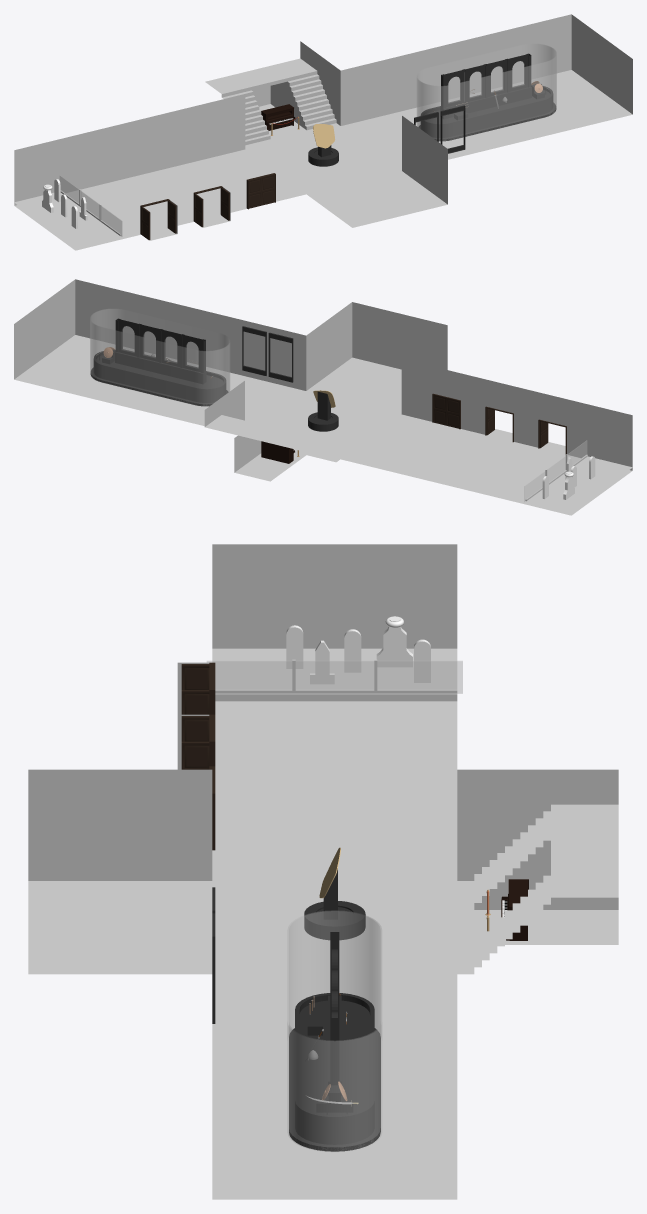
The model's file is Elazığ Kent Müzesi.glb.
3 views of the same model, one above another, from view 1: azimuth 30°, elevation 25°; view 2: azimuth 150°, elevation 25°; view 3: azimuth 270°, elevation 25° (orthographic). The views are drawn at different scales.
Visible parts, largest first — view 1: Plane, Circle, Plane.006, Stairs 0, Door 0, Door 2, Door 1, Piano 0, Relief Stand, Urartu Relief 0, Plane.003; view 2: Plane, Circle, Plane.006, Door 0, Relief Stand, Piano 0, Plane.002, Plane.003, Door 2, Door 1, Stairs 0; view 3: Plane, Circle, Plane.006, Stairs 0, Relief Stand, Door 1, Door 2, Grave 0.
Part boxes in pixels (x1,y1,x2,y2): Plane: [14, 14, 632, 250]; Circle: [417, 44, 556, 141]; Plane.006: [205, 41, 340, 129]; Stairs 0: [222, 74, 336, 145]; Door 0: [246, 173, 275, 209]; Door 2: [140, 199, 176, 239]; Door 1: [193, 186, 229, 227]; Piano 0: [261, 104, 295, 130]; Relief Stand: [308, 145, 338, 166]; Urartu Relief 0: [313, 124, 335, 148]; Plane.003: [440, 105, 465, 153]; Plane: [14, 279, 632, 515]; Circle: [90, 309, 229, 406]; Plane.006: [204, 381, 316, 472]; Door 0: [432, 393, 460, 429]; Relief Stand: [308, 391, 338, 431]; Piano 0: [261, 441, 294, 463]; Plane.002: [268, 332, 293, 382]; Plane.003: [242, 326, 266, 375]; Door 2: [538, 419, 566, 454]; Door 1: [485, 406, 513, 442]; Stairs 0: [302, 439, 335, 460]; Plane: [28, 544, 618, 1199]; Circle: [287, 910, 381, 1151]; Plane.006: [457, 769, 618, 909]; Stairs 0: [474, 811, 550, 967]; Relief Stand: [304, 868, 365, 940]; Door 1: [181, 714, 215, 769]; Door 2: [181, 662, 215, 714]; Grave 0: [376, 616, 412, 667].
Size of the model in its own units: 42.02 by 4.52 by 19.26.
Materials: 18 (10 with a texture image).
